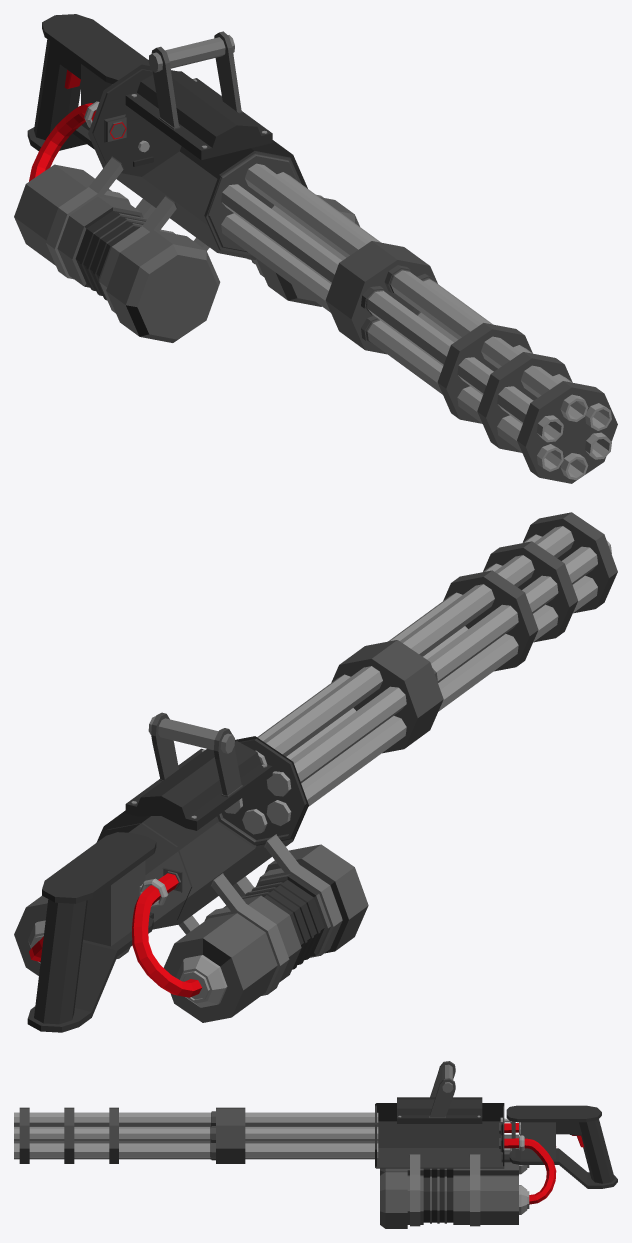
Rendered from minigun.glb.
The picture shows the model from 3 angles, top to bottom: view 1: azimuth 30°, elevation 25°; view 2: azimuth 150°, elevation 25°; view 3: azimuth 270°, elevation 25°; orthographic projection. The views are drawn at different scales.
Parts seen in each view (by area): view 1: Minigun; view 2: Minigun; view 3: Minigun.
Boxes of the visible parts, box(x1,y1,x2,y2) form: Minigun: box(14, 14, 617, 483); Minigun: box(14, 512, 617, 1032); Minigun: box(14, 1061, 617, 1228).
Bounding box in the file's own units: 2.62 × 2.51 × 10.02.
